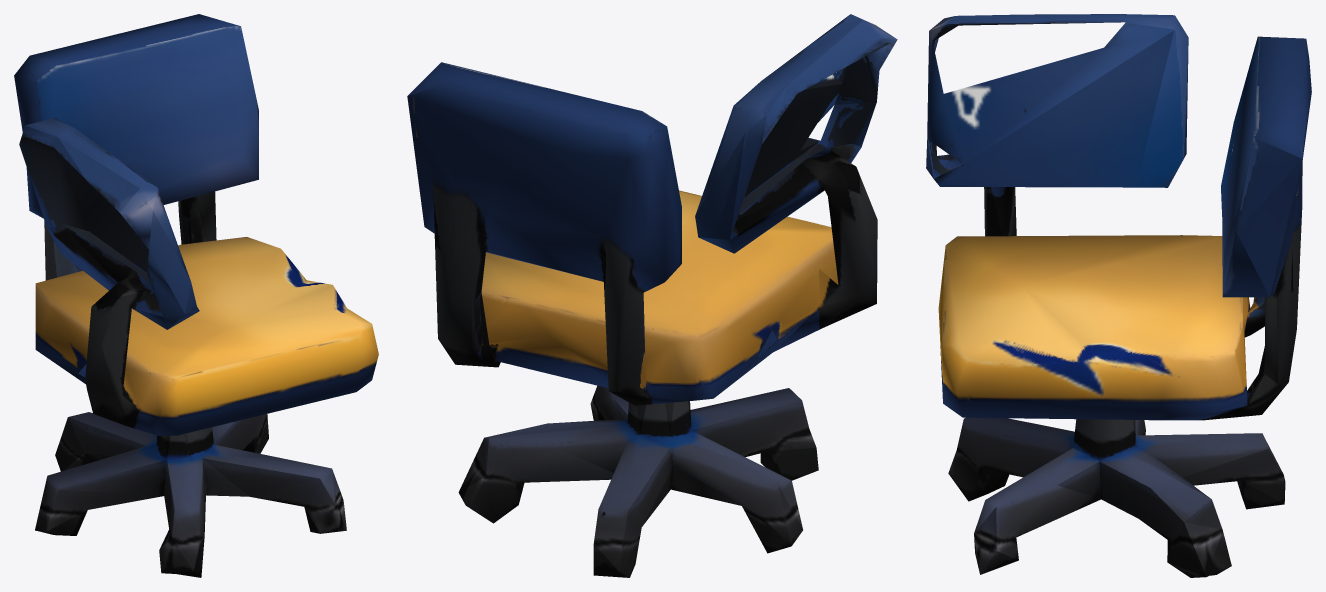
File: office-chair-broken.glb
3 views of the same model, side by side, from view 1: azimuth 30°, elevation 25°; view 2: azimuth 150°, elevation 25°; view 3: azimuth 270°, elevation 25° (orthographic). The views are drawn at different scales.
Parts seen in each view (by area): view 1: geometry_0.001; view 2: geometry_0.001; view 3: geometry_0.001.
Boxes of the visible parts, x1,y1,x2,y2 form: geometry_0.001: [14, 14, 378, 577]; geometry_0.001: [407, 14, 897, 577]; geometry_0.001: [926, 14, 1311, 577].
Size of the model in its own units: 0.6997 by 1 by 0.7618.
Materials: 1 (1 with a texture image).
